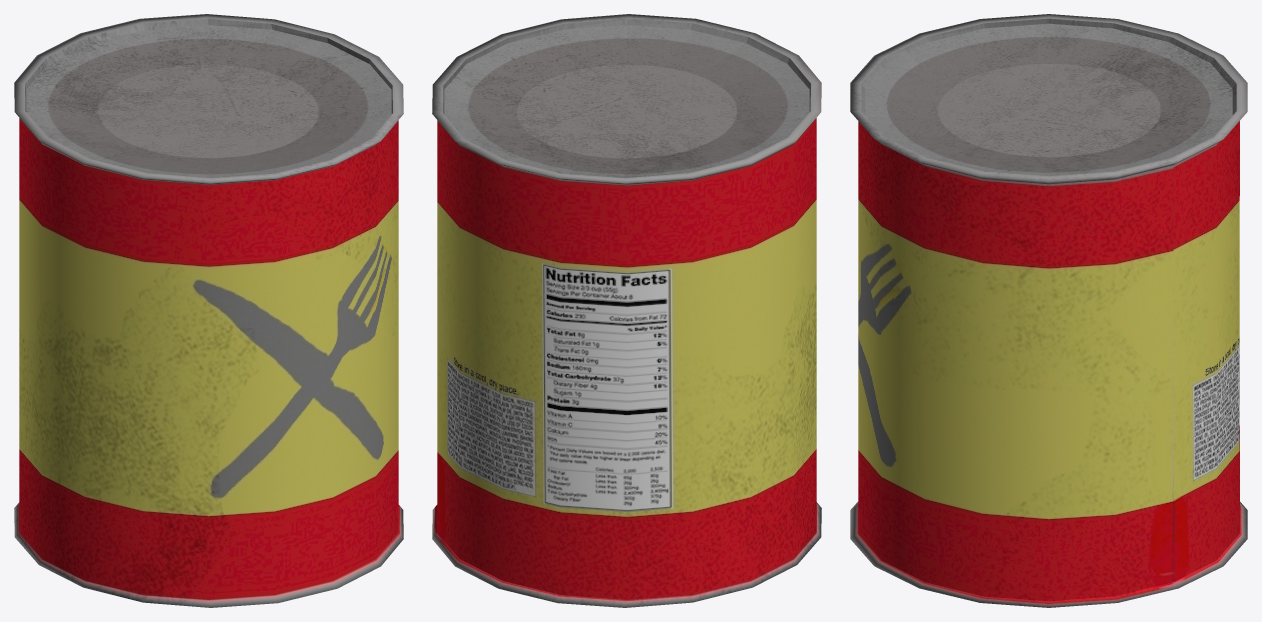
Rendered from ration can.FBX.
3 renders of one model, left to right at view 1: azimuth 30°, elevation 25°; view 2: azimuth 150°, elevation 25°; view 3: azimuth 270°, elevation 25°, orthographic.
Visible parts, largest first — view 1: Cylinder001; view 2: Cylinder001; view 3: Cylinder001.
Boxes of the visible parts, <box> form: Cylinder001: <box>14,14,403,607</box>; Cylinder001: <box>432,14,821,607</box>; Cylinder001: <box>850,14,1247,607</box>.
Bounding box in the file's own units: 32.62 × 38.96 × 32.84.
1 material, 1 textured.
